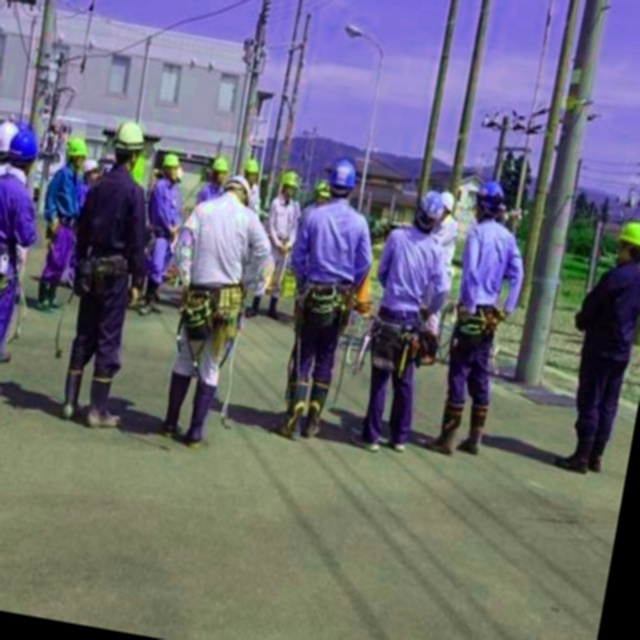Sin_Chaleco: (293, 193, 376, 288), (74, 168, 152, 263), (186, 193, 256, 289)
